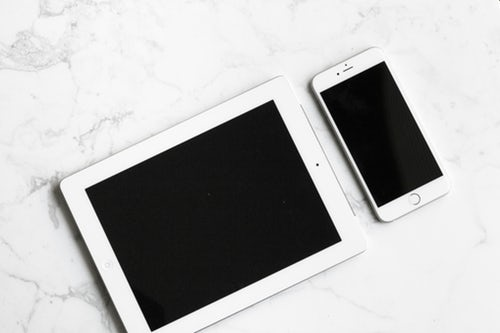phone: (302, 46, 453, 227)
